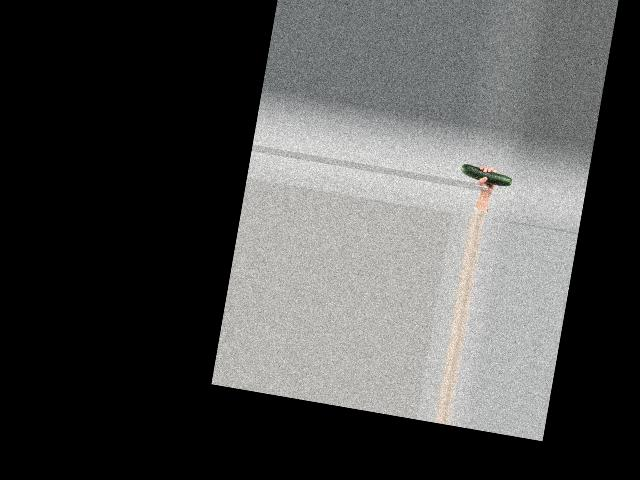cucumber: (459, 163, 512, 187)
